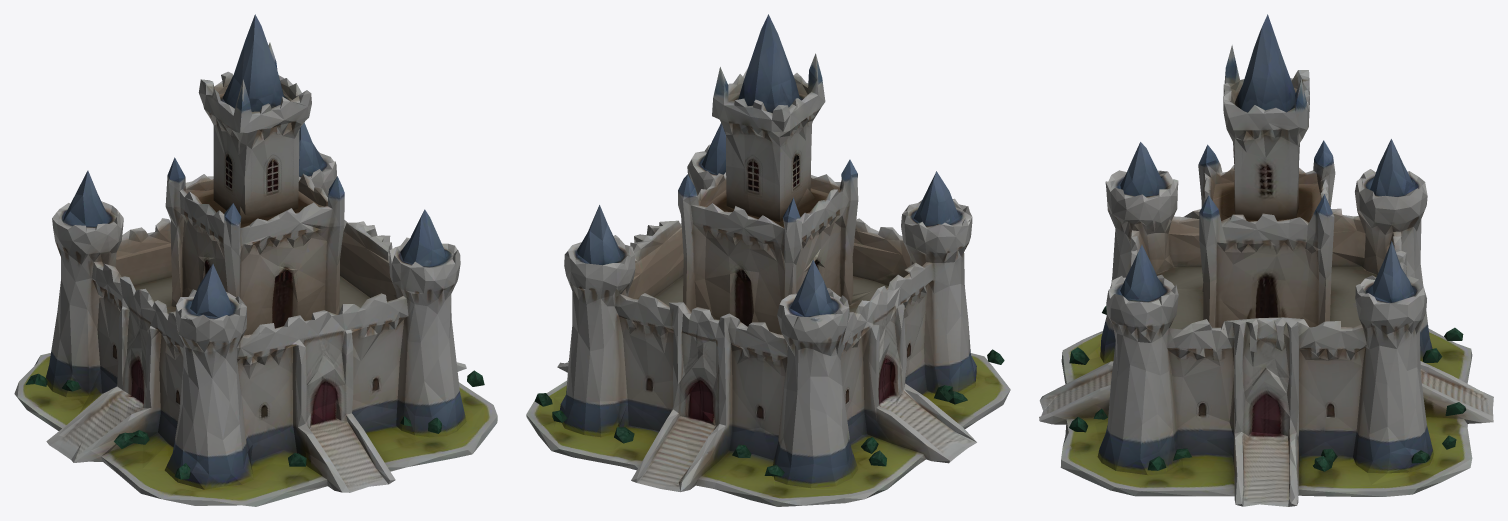
The model's file is tripo_convert_67610a7a-6169-4340-88a0-e1eed7fc3cee.obj.
3 views of the same model, side by side, from view 1: azimuth 30°, elevation 25°; view 2: azimuth 150°, elevation 25°; view 3: azimuth 270°, elevation 25° (orthographic).
Parts seen in each view (by area): view 1: tripo_node_67610a7a-6169-4340-88a0-e1eed7fc3cee; view 2: tripo_node_67610a7a-6169-4340-88a0-e1eed7fc3cee; view 3: tripo_node_67610a7a-6169-4340-88a0-e1eed7fc3cee.
Boxes of the visible parts, <box> form: tripo_node_67610a7a-6169-4340-88a0-e1eed7fc3cee: <box>14,14,497,506</box>; tripo_node_67610a7a-6169-4340-88a0-e1eed7fc3cee: <box>526,14,1010,506</box>; tripo_node_67610a7a-6169-4340-88a0-e1eed7fc3cee: <box>1039,14,1493,506</box>.
Size of the model in its own units: 0.9658 by 0.9262 by 0.9597.
Materials: 1 (1 with a texture image).
